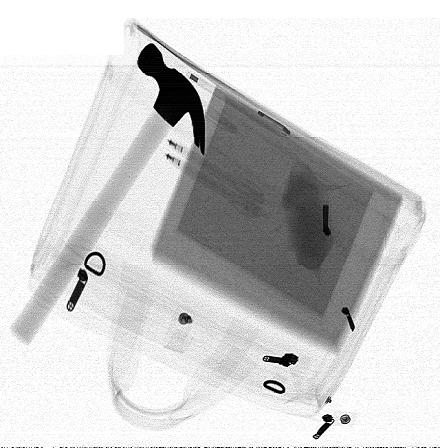Hammer: (9, 42, 205, 348)
